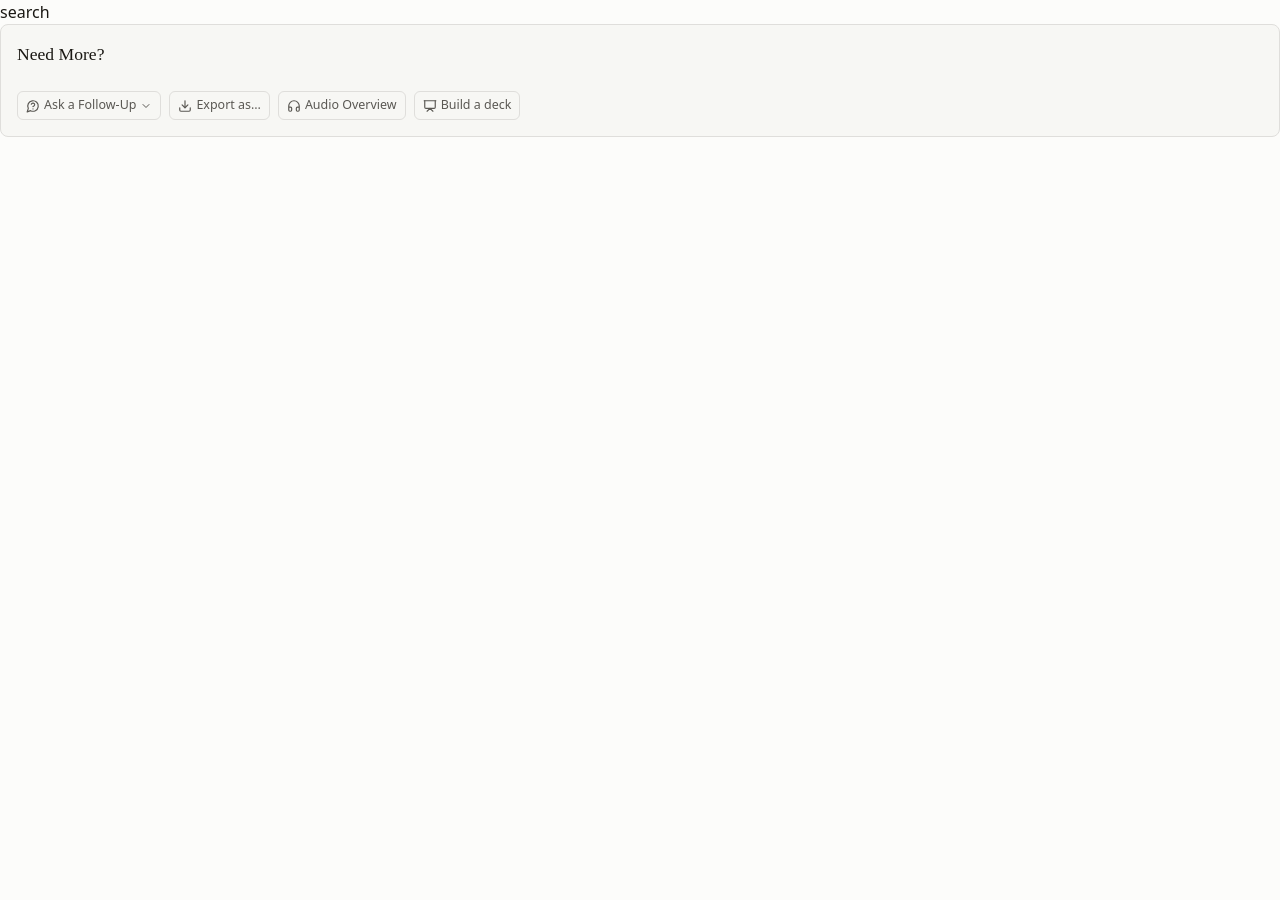
NeedMoreCard › Export modal opens showing MD/PDF choices, closes, and reopens
Click the button "Export as…".
click(220, 106)  # box top-left (169, 91), bottom-right (270, 120)
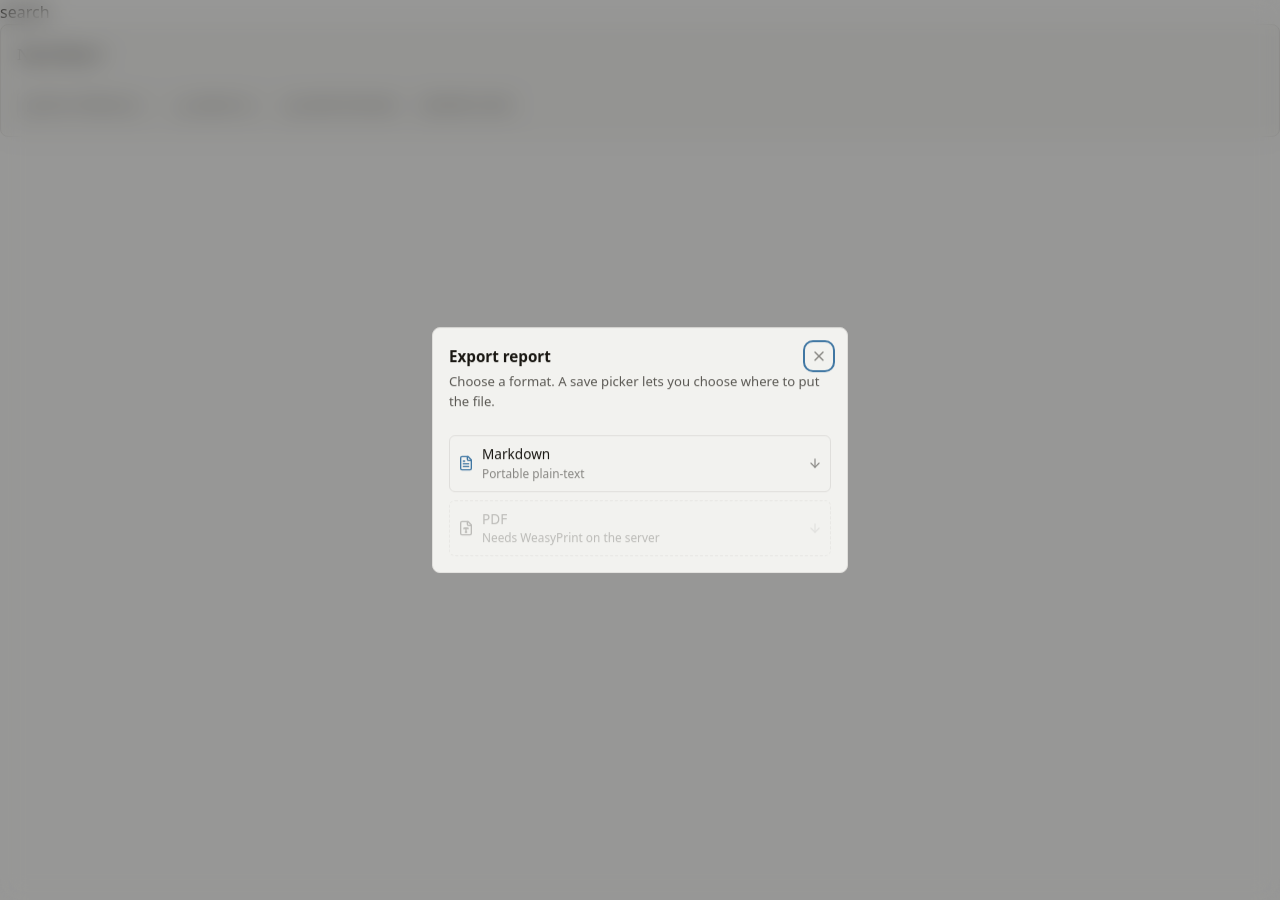
Now the button "Markdown Portable plain-text" is shown, box top-left (449, 436), bottom-right (831, 492)
Now the button "PDF Needs WeasyPrint on the server" is shown, box top-left (449, 500), bottom-right (831, 556)
Click the button named "Close export dialog".
click(819, 356)  # box top-left (807, 344), bottom-right (831, 368)
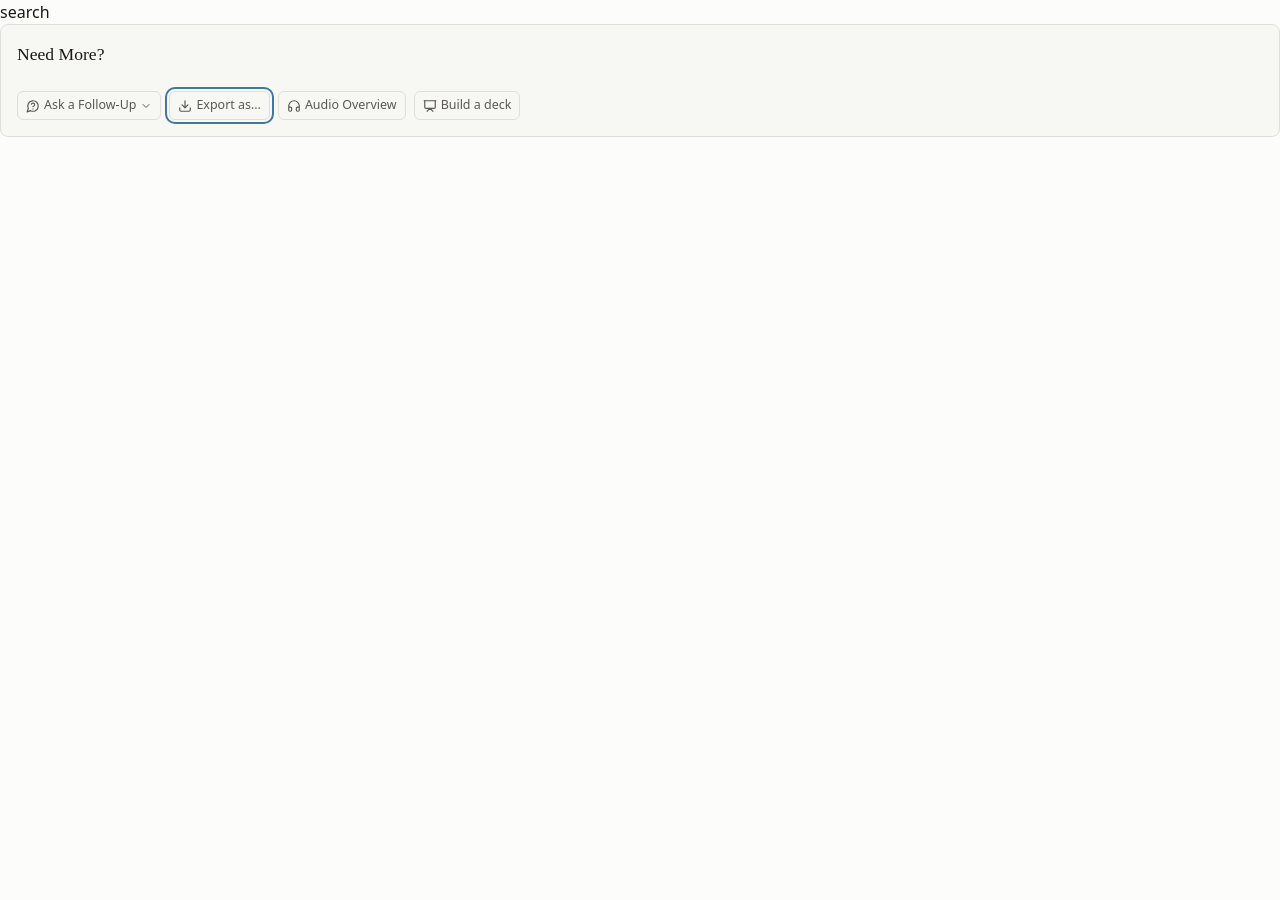
Now the dialog is gone
Click the button "Export as…".
click(220, 106)  # box top-left (169, 91), bottom-right (270, 120)
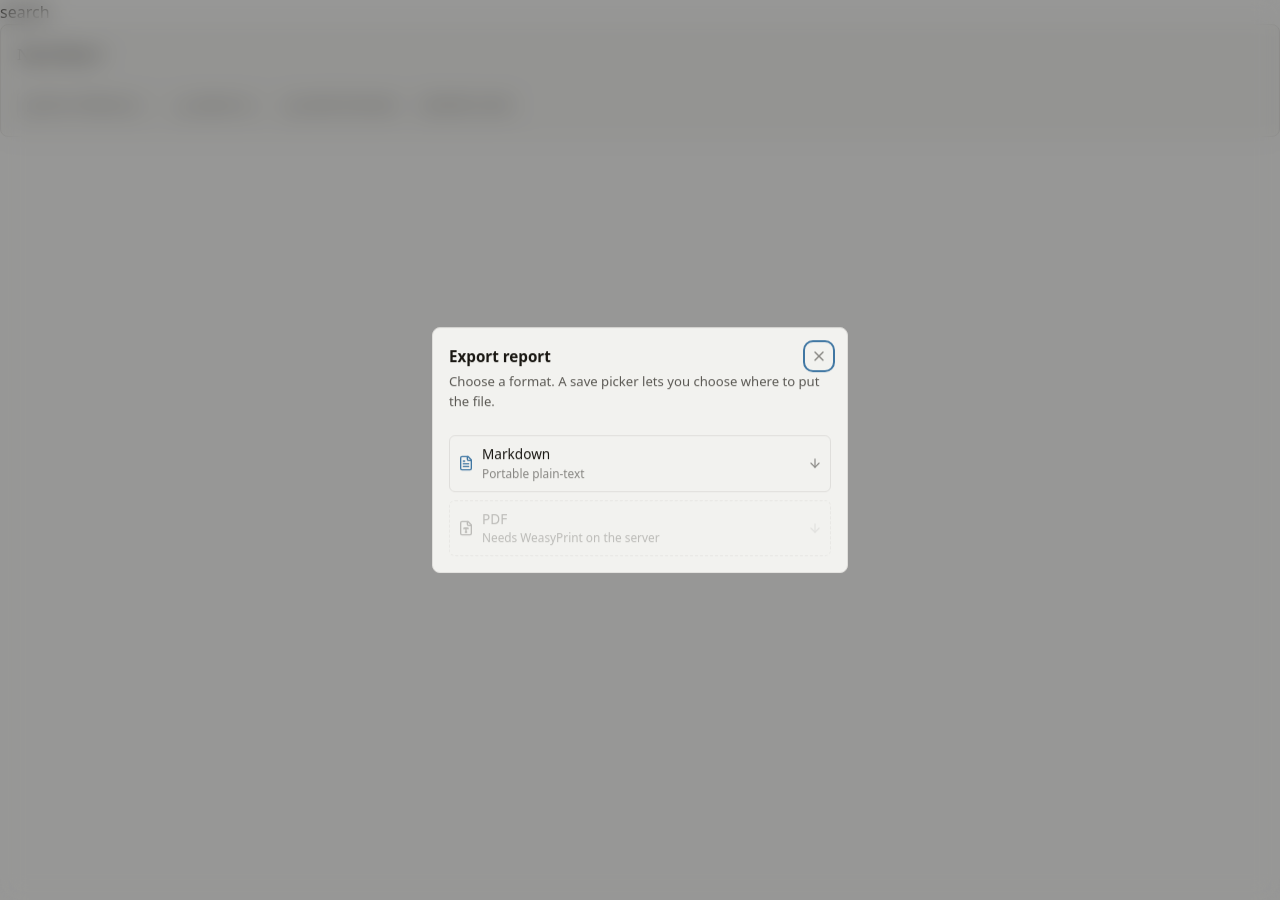
Now the dialog is shown, box top-left (432, 327), bottom-right (848, 573)
